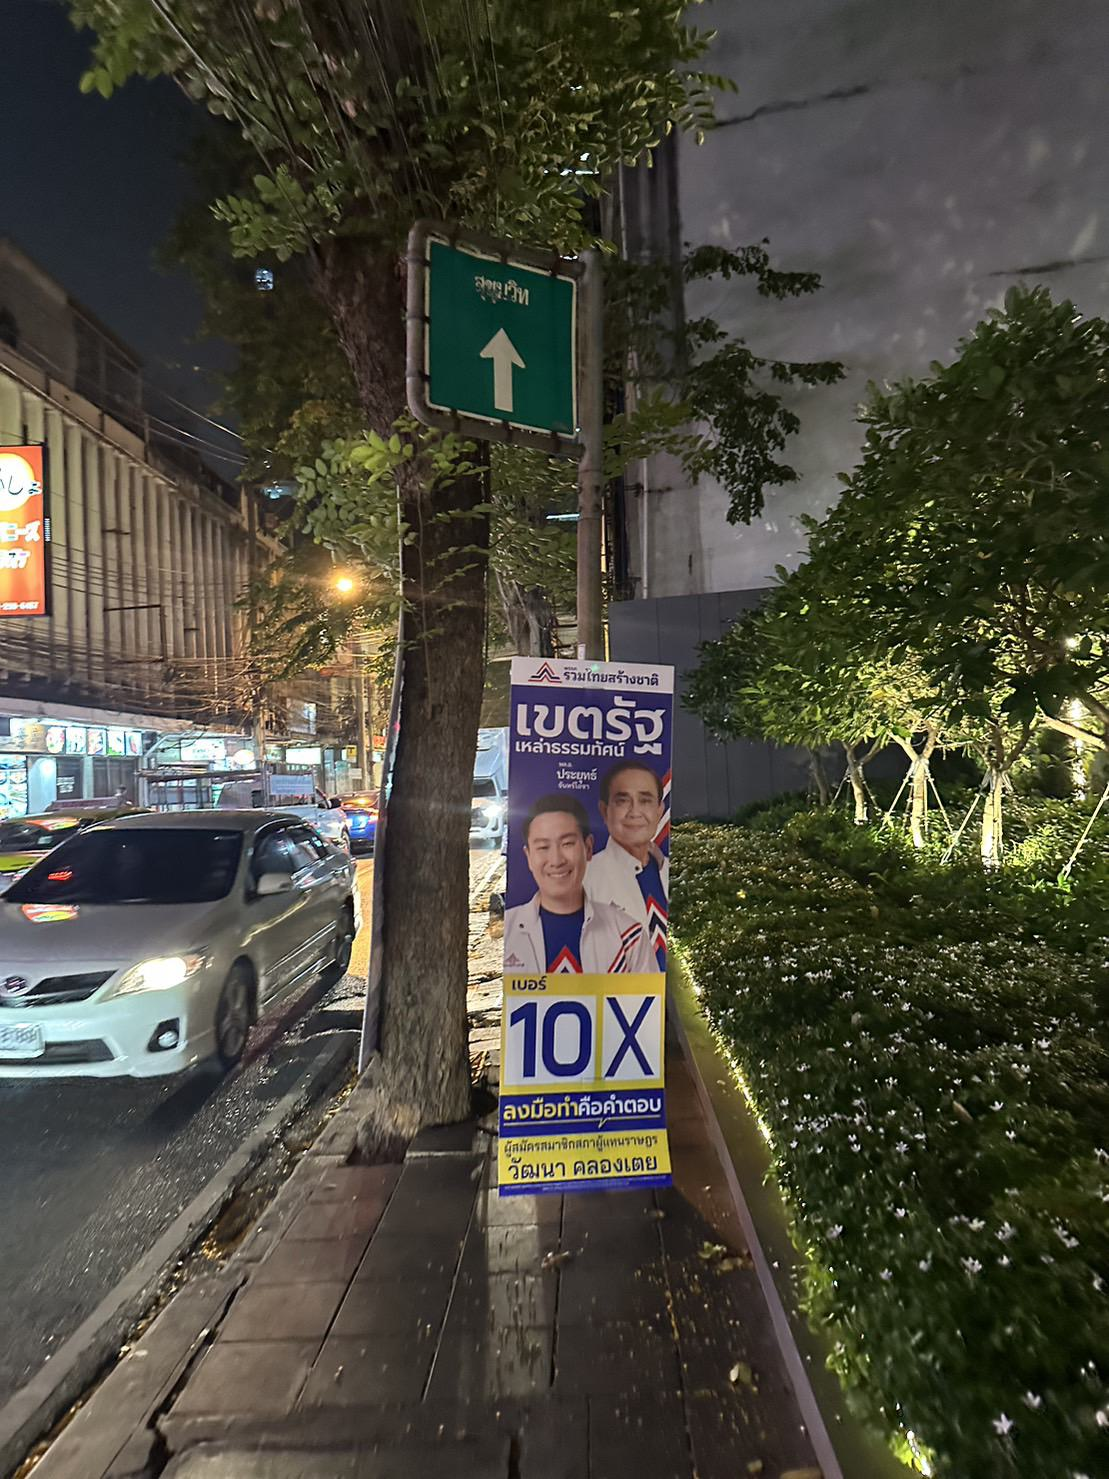Banner: (490, 660, 684, 1197)
